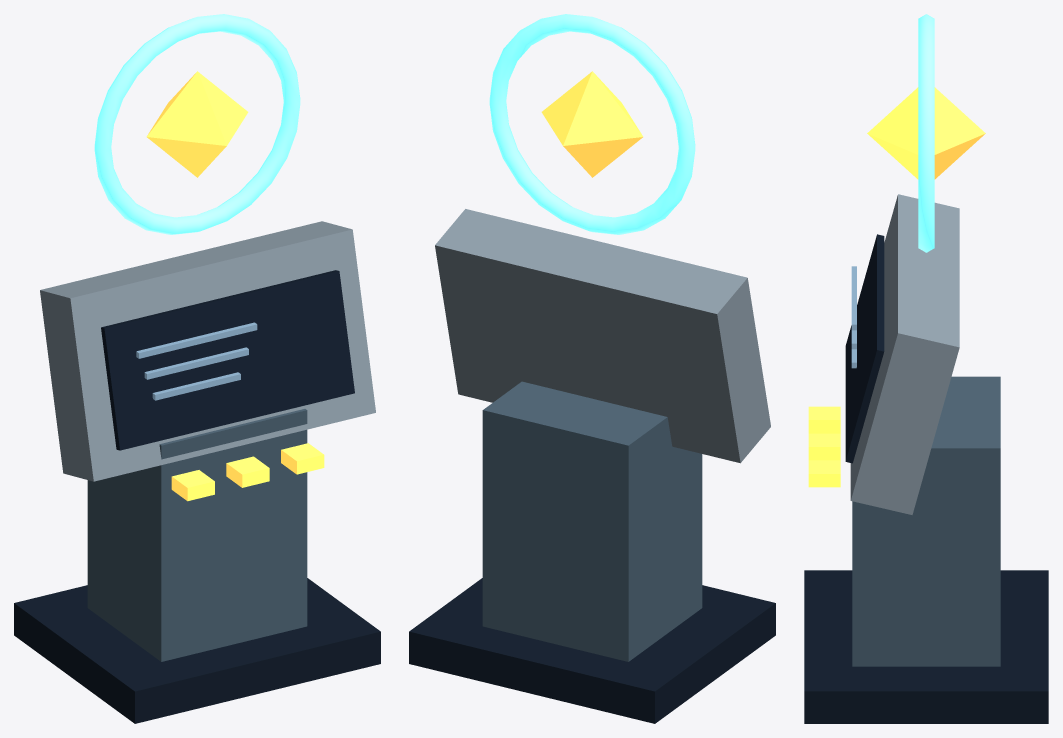
File: device-memory.glb
The picture shows the model from 3 angles, left to right: view 1: azimuth 30°, elevation 25°; view 2: azimuth 150°, elevation 25°; view 3: azimuth 270°, elevation 25°; orthographic projection.
Visible parts, largest first — view 1: console-pedestal, console-head, screen, console-foot, memory-orbit, memory-crystal, console-key (×3), state-light (×3); view 2: console-head, console-pedestal, console-foot, memory-orbit, memory-crystal; view 3: console-pedestal, console-foot, console-head, screen, memory-crystal, memory-orbit, console-key (×3).
Part boxes in pixels (bbox=[...]): console-pedestal: bbox=[87, 409, 307, 661]; console-head: bbox=[40, 221, 375, 481]; screen: bbox=[101, 270, 354, 450]; console-foot: bbox=[14, 578, 380, 723]; memory-orbit: bbox=[94, 14, 300, 234]; memory-crystal: bbox=[146, 71, 248, 177]; console-key (×3): bbox=[171, 443, 324, 501]; state-light (×3): bbox=[136, 322, 257, 400]; console-head: bbox=[435, 209, 770, 463]; console-pedestal: bbox=[482, 381, 702, 661]; console-foot: bbox=[409, 578, 775, 723]; memory-orbit: bbox=[489, 14, 695, 234]; memory-crystal: bbox=[541, 71, 643, 177]; console-pedestal: bbox=[852, 376, 1000, 666]; console-foot: bbox=[804, 570, 1048, 723]; console-head: bbox=[850, 194, 959, 514]; screen: bbox=[845, 234, 884, 463]; memory-crystal: bbox=[867, 87, 985, 179]; memory-orbit: bbox=[918, 14, 934, 252]; console-key (×3): bbox=[808, 406, 840, 487].
Bounding box in the file's own units: 1.55 × 3.32 × 1.15.
